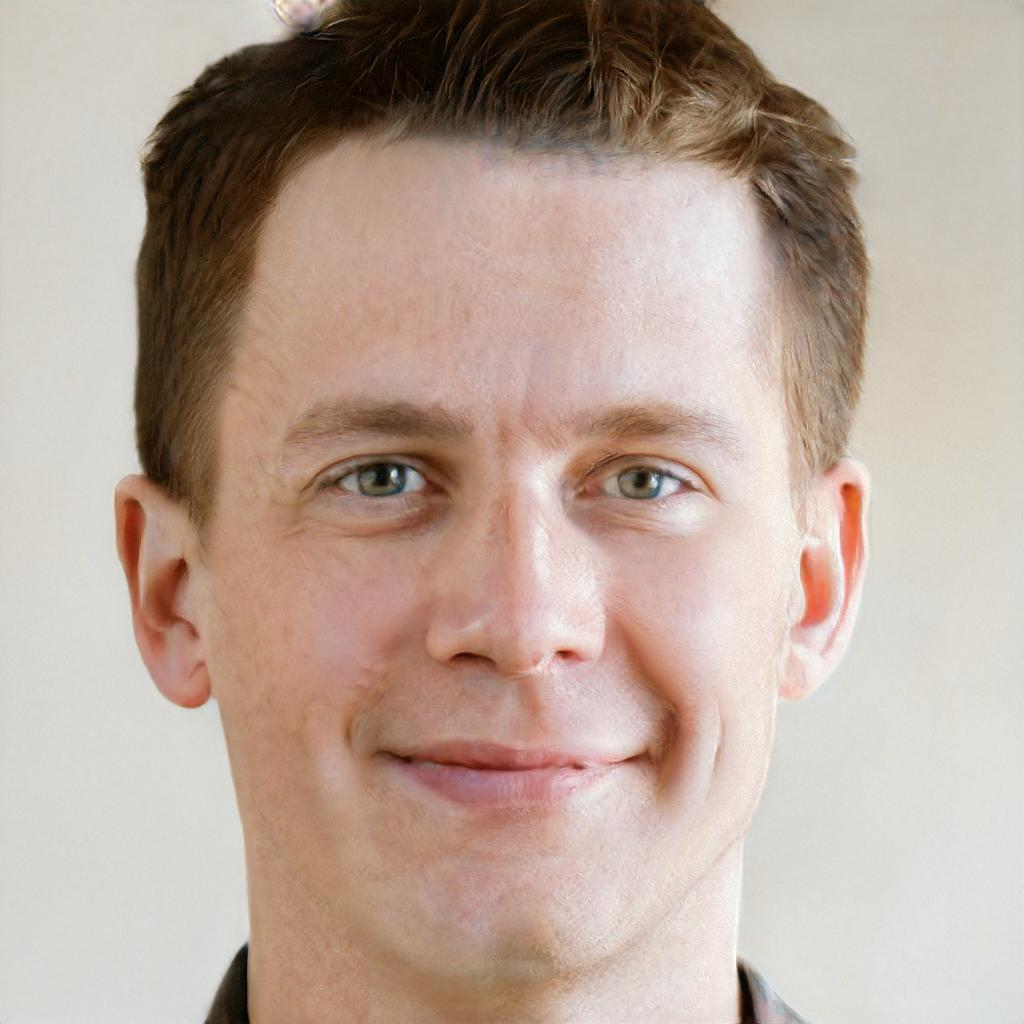face: (212, 158, 778, 978)
